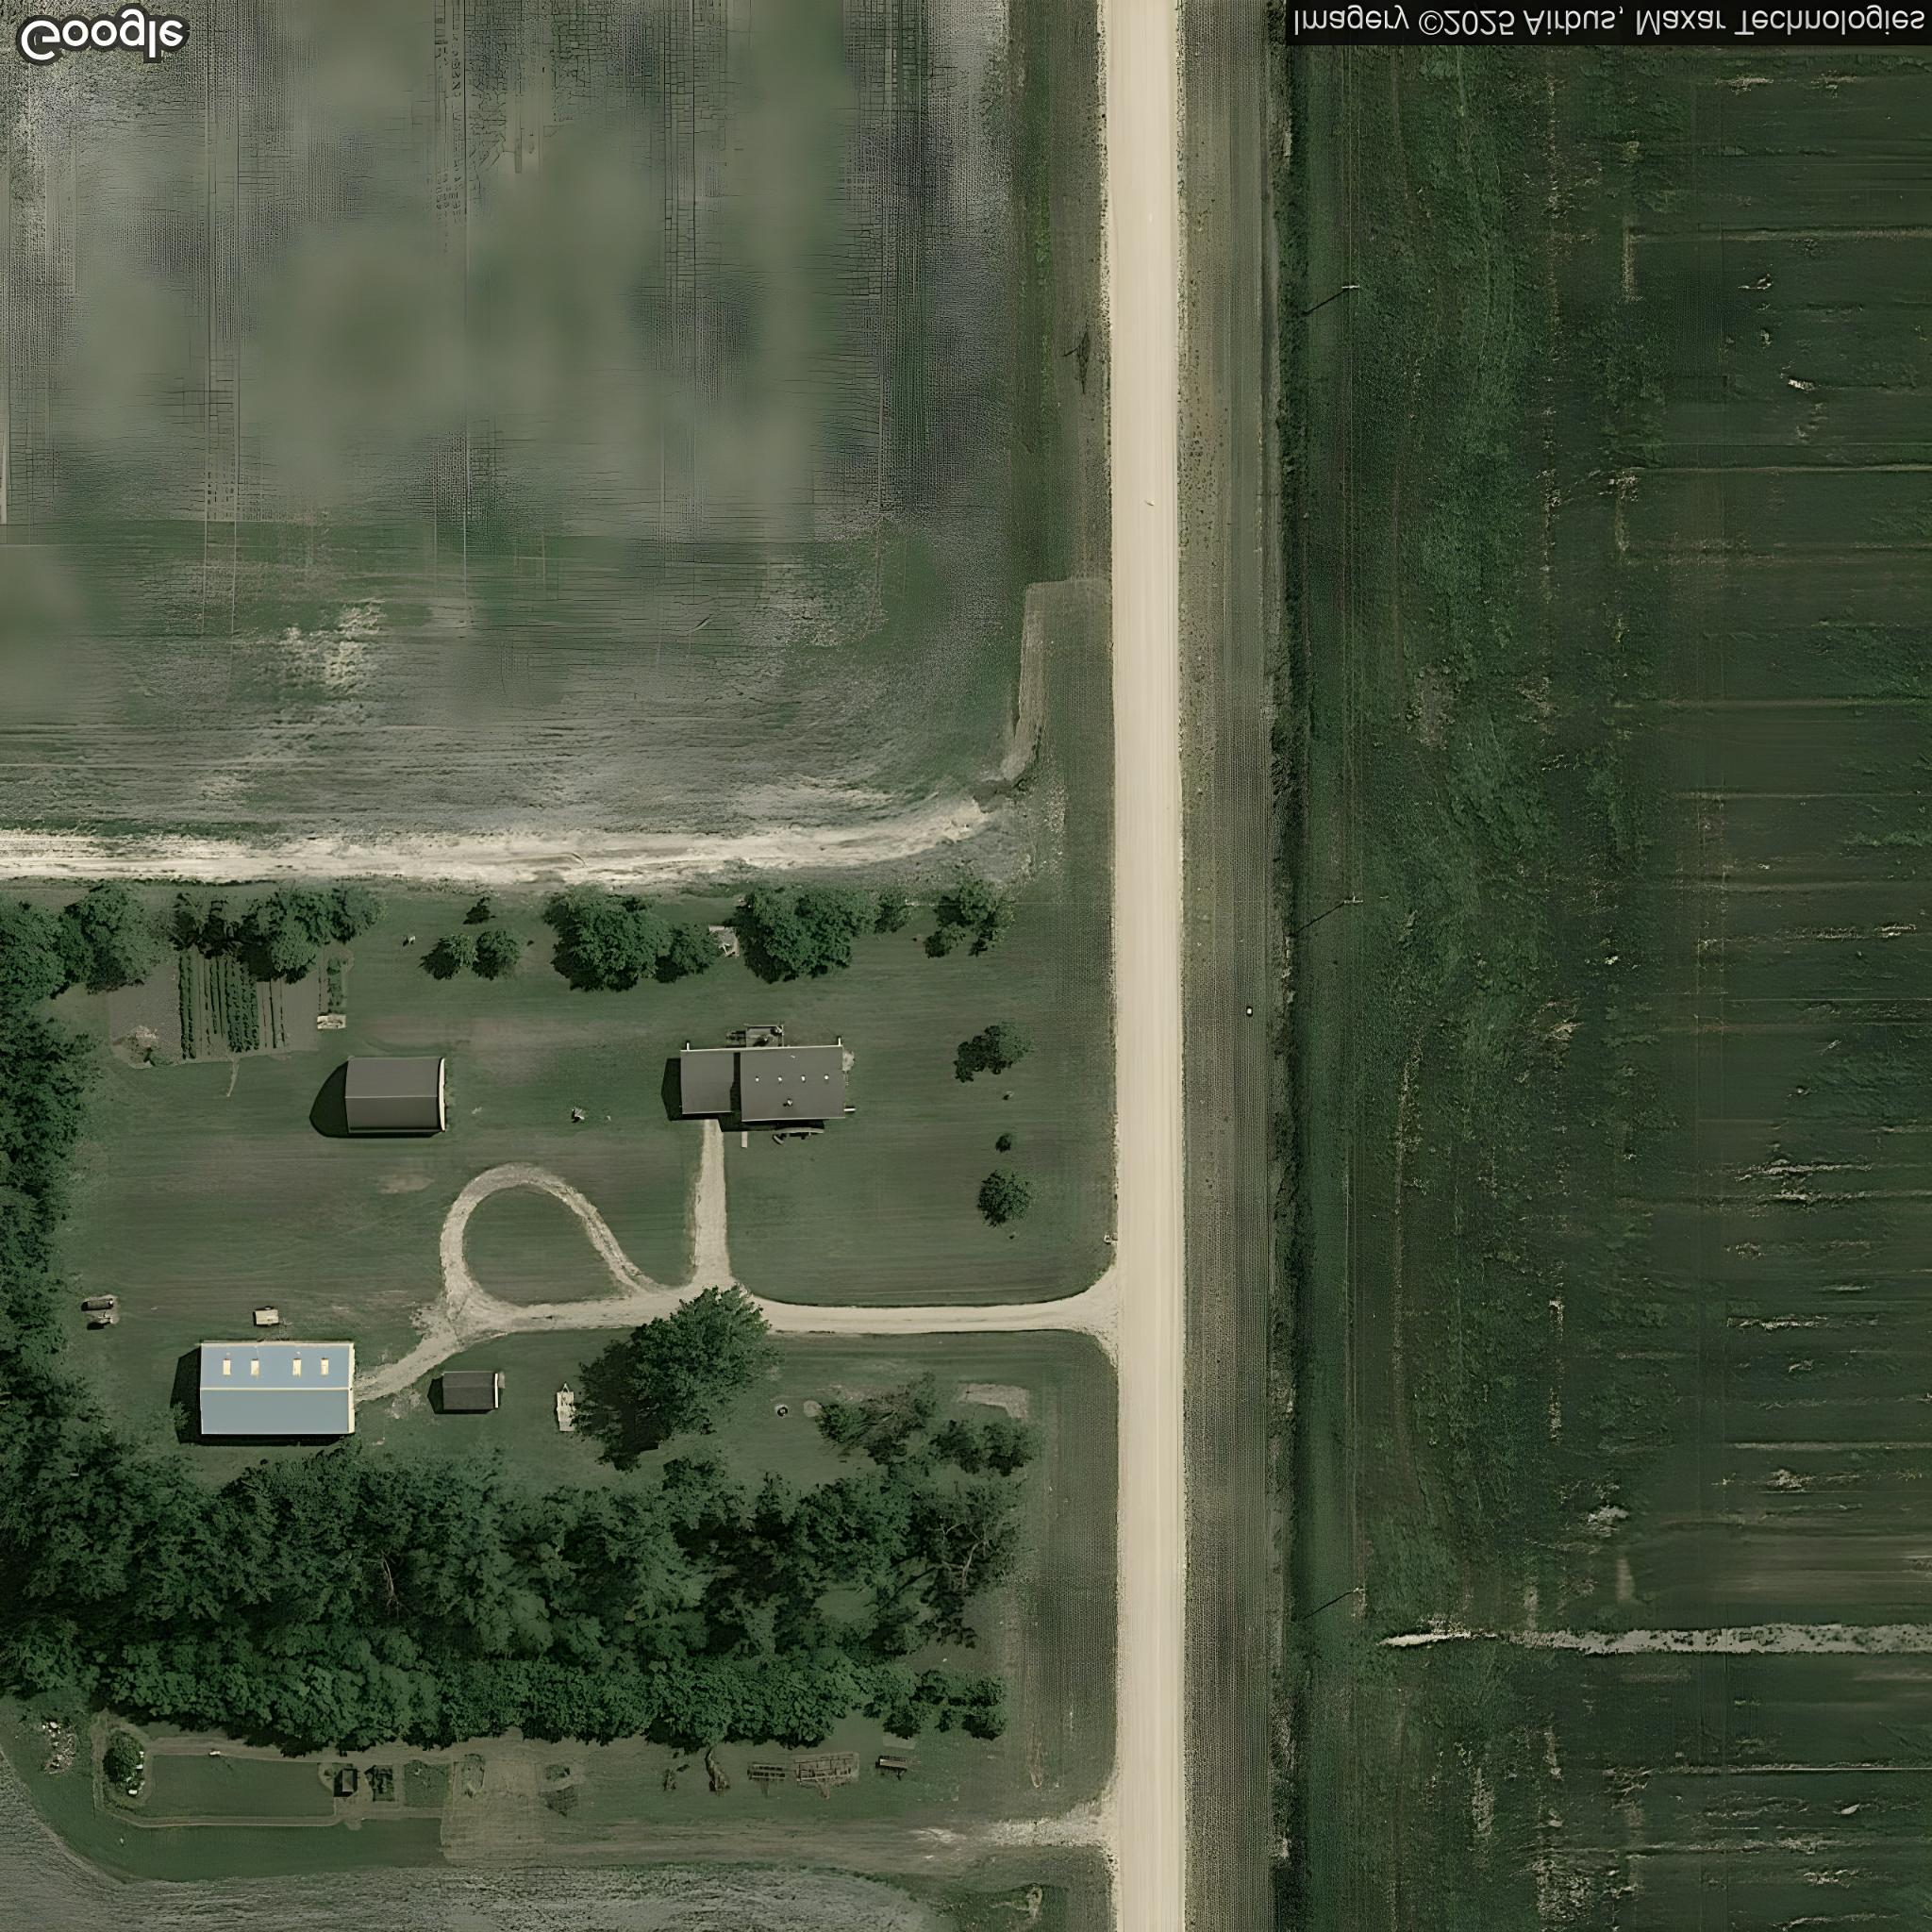Garage: (202, 1343, 354, 1433), (444, 1373, 499, 1408)
House: (681, 1046, 846, 1122), (345, 1058, 446, 1132)
